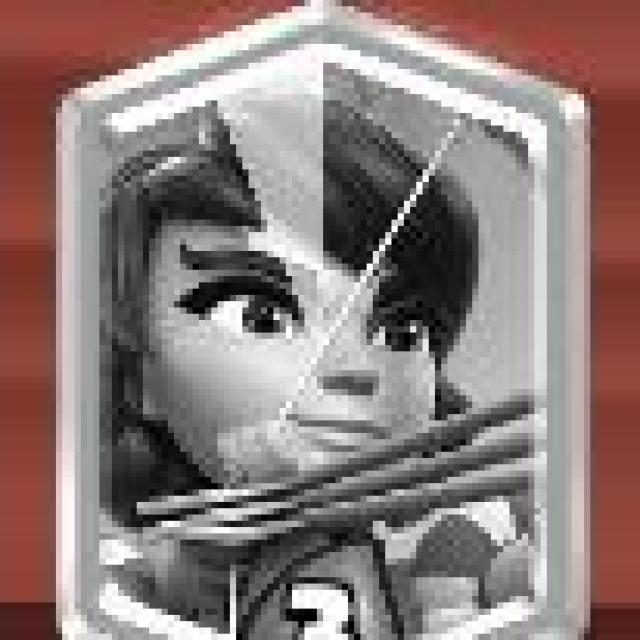Princess: (78, 7, 582, 639)
